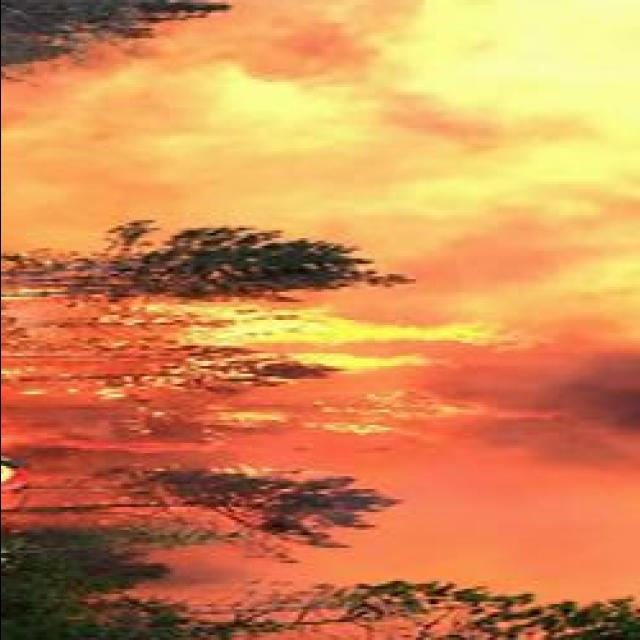fire: (215, 309, 430, 349)
smoke: (2, 70, 206, 164), (537, 306, 640, 480), (233, 3, 407, 95), (398, 93, 586, 168), (458, 360, 556, 450)
